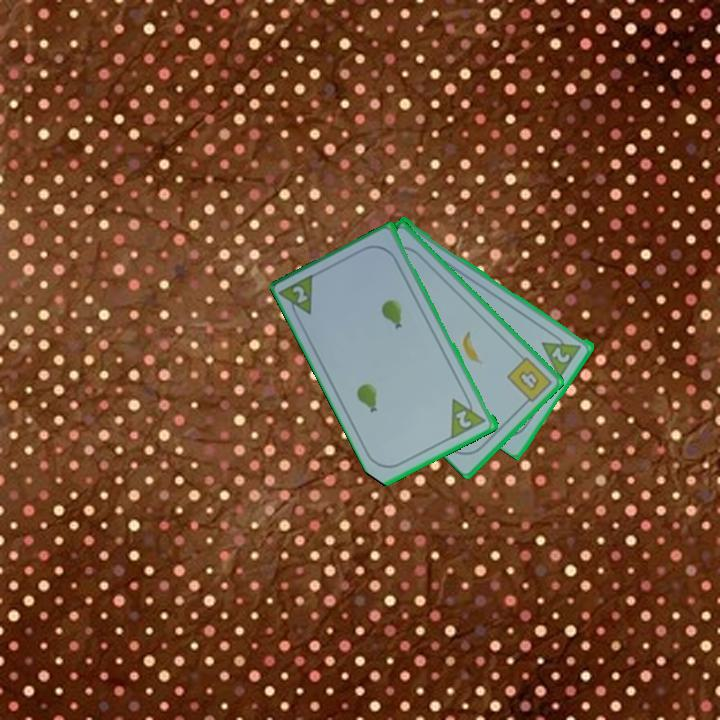2p: (447, 390, 490, 441), (548, 343, 573, 366), (289, 282, 311, 306)
4b: (503, 353, 555, 408)
